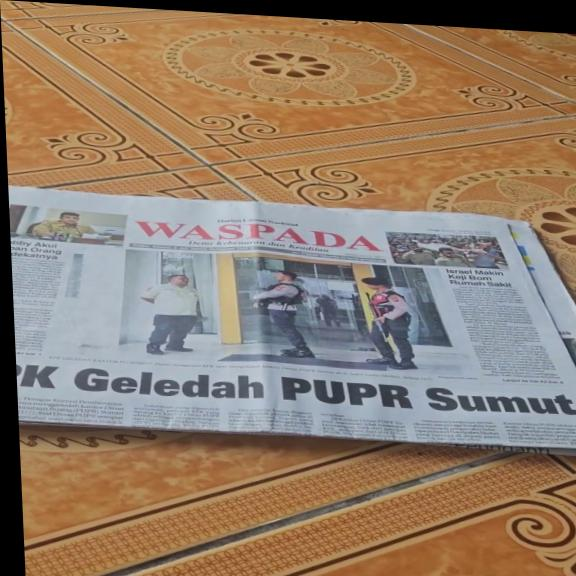Kertas: (12, 186, 576, 453)
